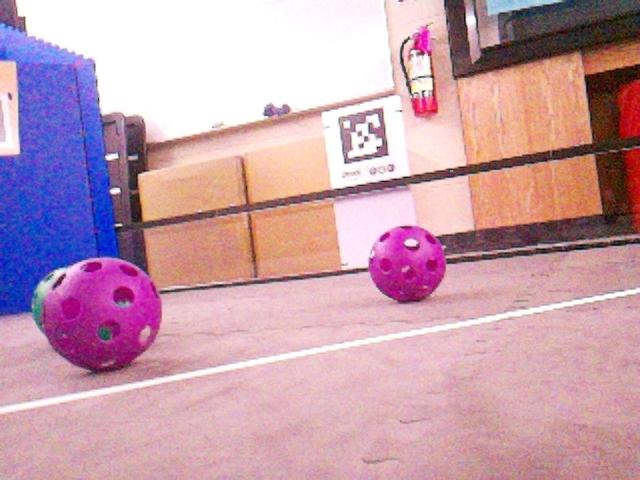Green: (33, 268, 66, 331)
Purple: (41, 255, 164, 373), (367, 225, 446, 302)
